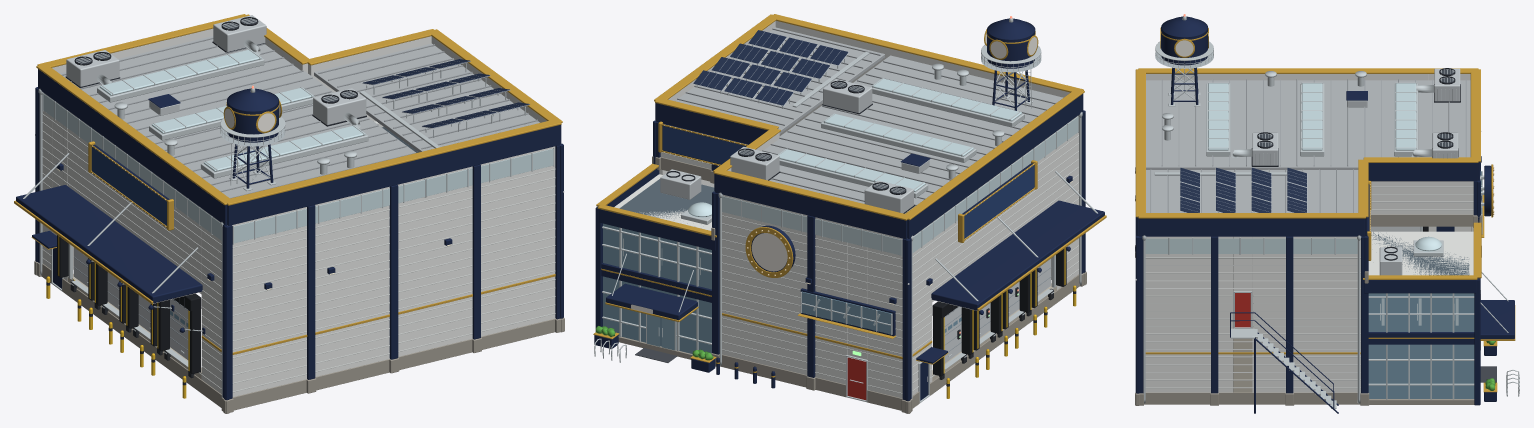
Rendered from RedeDC.fbx.
3 renders of one model, left to right at view 1: azimuth 30°, elevation 25°; view 2: azimuth 150°, elevation 25°; view 3: azimuth 270°, elevation 25°, orthographic. The views are drawn at different scales.
Visible parts, largest first — view 1: RedeDC_Body.003, RedeDC_WaterTower_Body.003, RedeDC_NameBoardEast_Body.003; view 2: RedeDC_Body.003, RedeDC_WaterTower_Body.003, RedeDC_NameBoardEast_Body.003, RedeDC_NameBoardSouth_Body.003, RedeDC_Medallion_Body.003; view 3: RedeDC_Body.003, RedeDC_WaterTower_Body.003, RedeDC_Medallion_Body.003.
Part boxes in pixels (x1,y1,x2,y2): RedeDC_Body.003: (14, 14, 564, 413); RedeDC_WaterTower_Body.003: (220, 85, 285, 191); RedeDC_NameBoardEast_Body.003: (88, 141, 173, 230); RedeDC_Body.003: (593, 14, 1106, 413); RedeDC_WaterTower_Body.003: (981, 16, 1041, 111); RedeDC_NameBoardEast_Body.003: (958, 160, 1037, 242); RedeDC_NameBoardSouth_Body.003: (658, 121, 748, 165); RedeDC_Medallion_Body.003: (745, 225, 795, 277); RedeDC_Body.003: (1135, 68, 1519, 413); RedeDC_WaterTower_Body.003: (1155, 14, 1213, 106); RedeDC_Medallion_Body.003: (1480, 164, 1494, 217).
Bounding box in the file's own units: 22.48 × 15.69 × 20.51.
